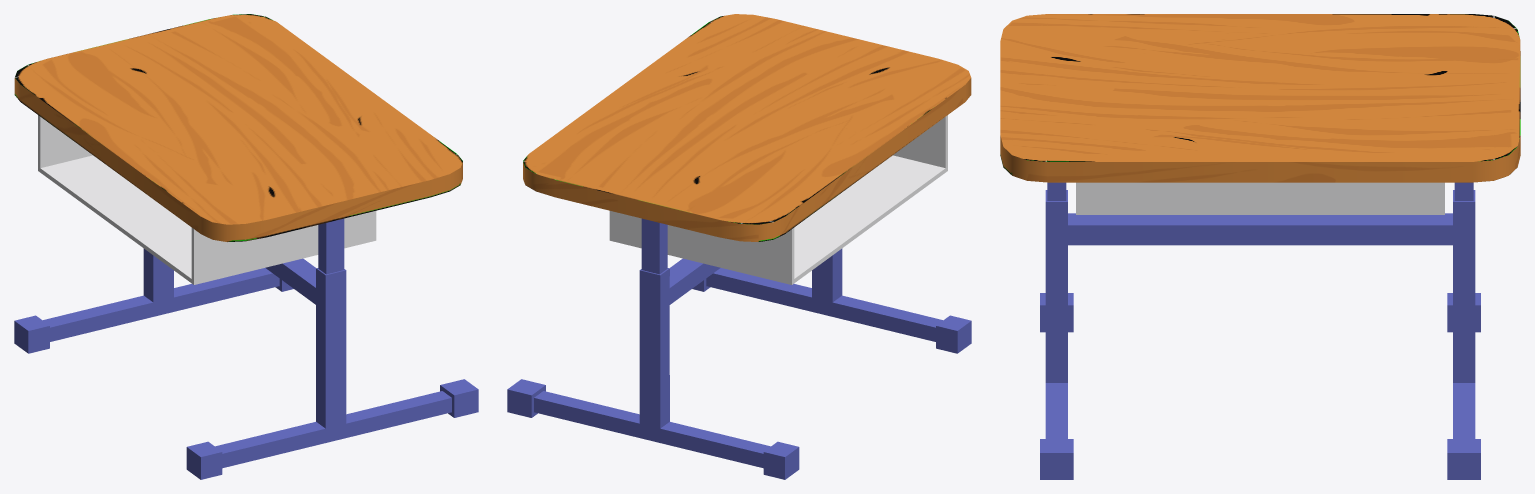
Rendered from Table.fbx.
The picture shows the model from 3 angles, left to right: view 1: azimuth 30°, elevation 25°; view 2: azimuth 150°, elevation 25°; view 3: azimuth 270°, elevation 25°; orthographic projection. The views are drawn at different scales.
Visible parts, largest first — view 1: Box001, Box002, Box003; view 2: Box001, Box002, Box003; view 3: Box001, Box002, Box003.
Boxes of the visible parts, bbox=[...] form: Box001: bbox=[14, 14, 462, 241]; Box002: bbox=[14, 218, 478, 479]; Box003: bbox=[38, 115, 376, 284]; Box001: bbox=[523, 14, 971, 241]; Box002: bbox=[507, 218, 971, 479]; Box003: bbox=[609, 115, 947, 284]; Box001: bbox=[1000, 14, 1520, 182]; Box002: bbox=[1040, 182, 1480, 479]; Box003: bbox=[1076, 182, 1444, 214].
Size of the model in its own units: 63.88 by 57.2 by 87.65.
3 materials, 1 textured.
